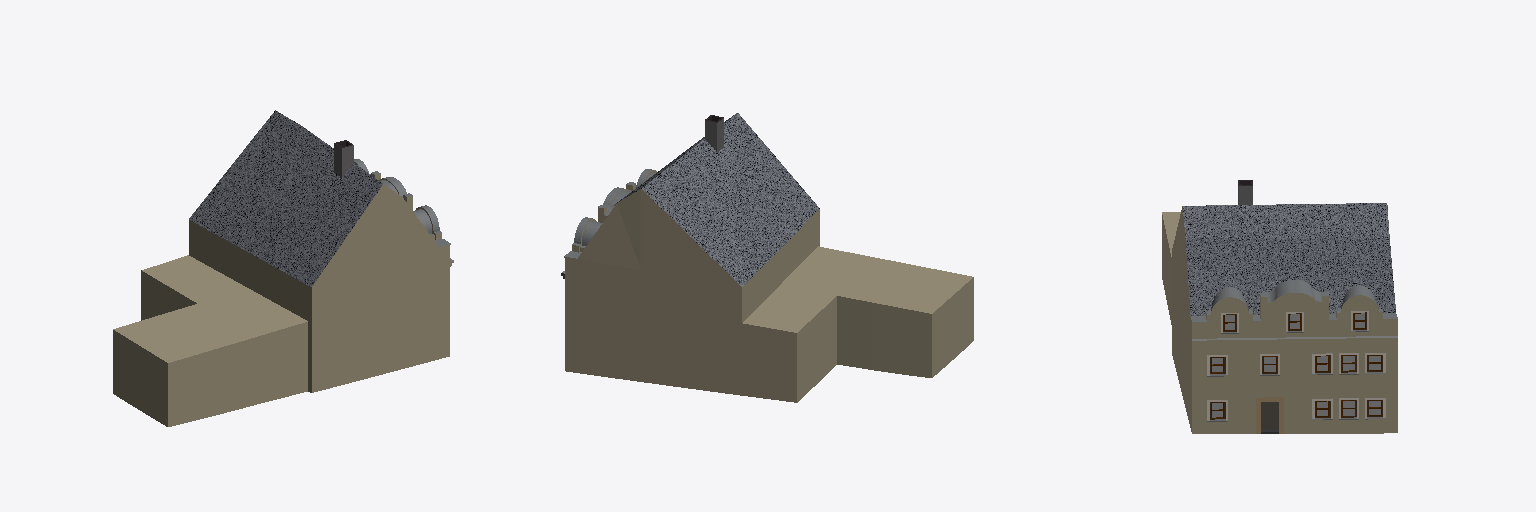
3 views of the same model, side by side, from view 1: azimuth 30°, elevation 25°; view 2: azimuth 150°, elevation 25°; view 3: azimuth 270°, elevation 25° (orthographic).
Parts seen in each view (by area): view 1: Model_Model.001; view 2: Model_Model.001; view 3: Model_Model.001.
Boxes of the visible parts, x1=… form: Model_Model.001: x1=113, y1=110, x2=453, y2=426; Model_Model.001: x1=561, y1=113, x2=973, y2=402; Model_Model.001: x1=1162, y1=180, x2=1397, y2=433.
Size of the model in its own units: 2.42 by 1.62 by 1.61.
Materials: 18 (1 with a texture image).